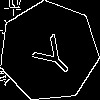Y: (24, 26, 79, 83)
